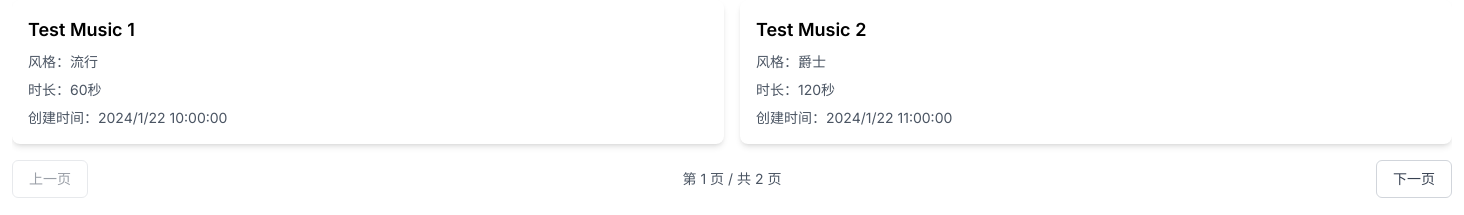
Test case: MusicList › 应该支持分页
Click the button "下一页": click(1414, 179) x1=1376 y1=160 x2=1452 y2=198
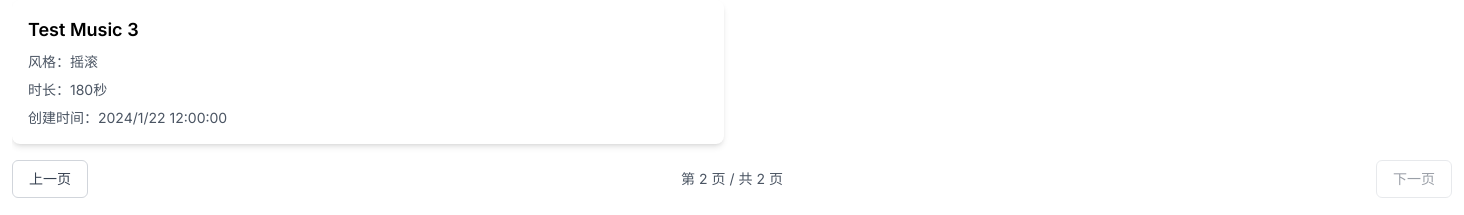
Check: the heading "Test Music 3" is shown, box x1=28 y1=19 x2=139 y2=40
